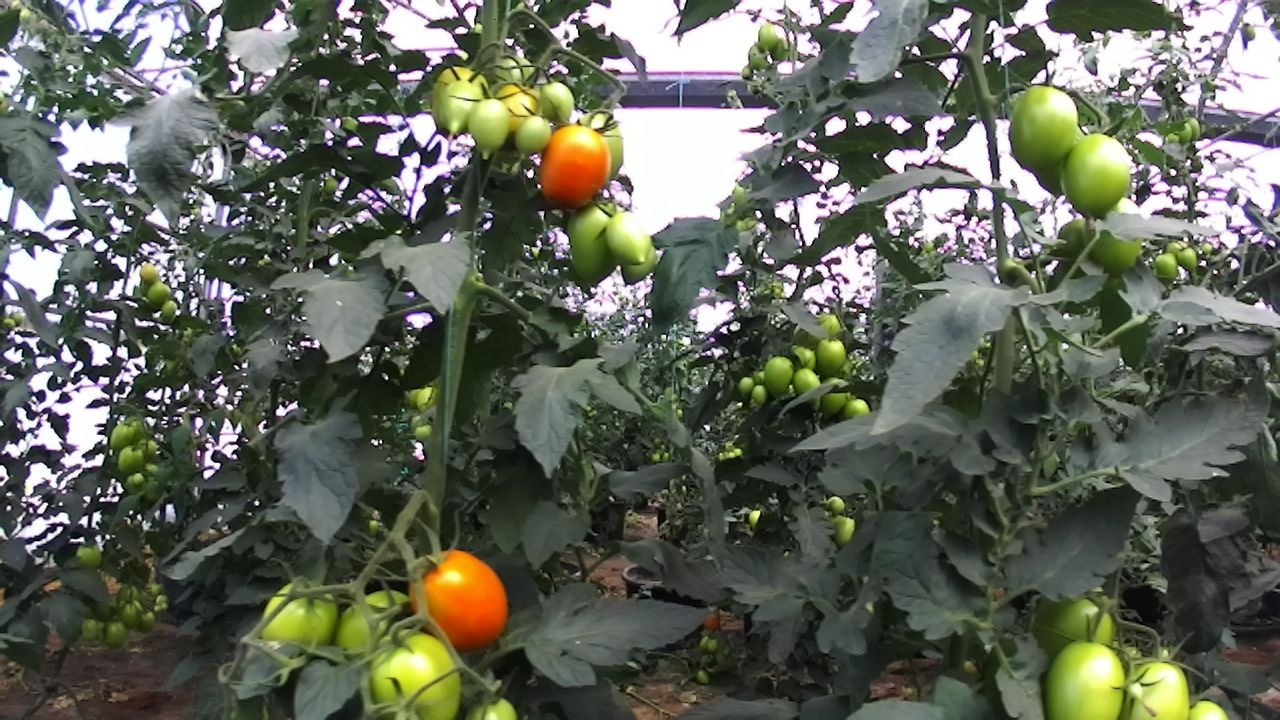tomato: (400, 545, 522, 654), (333, 577, 441, 677), (359, 623, 465, 720), (1054, 124, 1146, 228), (1028, 575, 1131, 667), (534, 113, 619, 220), (1038, 630, 1138, 720), (254, 571, 349, 664), (560, 192, 641, 300), (1005, 77, 1083, 176), (1121, 646, 1197, 720), (464, 89, 519, 168), (602, 206, 662, 278), (492, 72, 541, 145), (1087, 225, 1147, 280), (430, 77, 483, 139), (534, 76, 580, 133), (619, 237, 665, 289), (756, 353, 801, 401), (511, 111, 556, 157), (813, 332, 853, 383), (1179, 686, 1238, 720), (68, 537, 111, 575), (1150, 247, 1189, 287), (837, 393, 879, 428), (788, 363, 827, 399), (114, 437, 146, 480), (726, 181, 758, 223), (814, 308, 849, 346), (830, 508, 861, 550), (784, 338, 820, 374), (103, 420, 138, 452), (754, 20, 784, 55), (1173, 241, 1203, 276), (141, 278, 177, 307), (155, 295, 186, 327), (72, 613, 107, 641), (742, 502, 770, 536), (99, 618, 129, 648), (742, 41, 771, 71), (821, 488, 850, 518), (121, 468, 149, 497), (134, 259, 164, 286), (744, 381, 772, 407), (1181, 112, 1204, 143), (119, 601, 145, 628), (692, 666, 718, 692), (730, 374, 759, 397), (1174, 119, 1196, 148), (698, 611, 723, 634), (135, 608, 158, 633), (320, 173, 342, 199), (738, 62, 756, 83), (704, 636, 720, 656)
